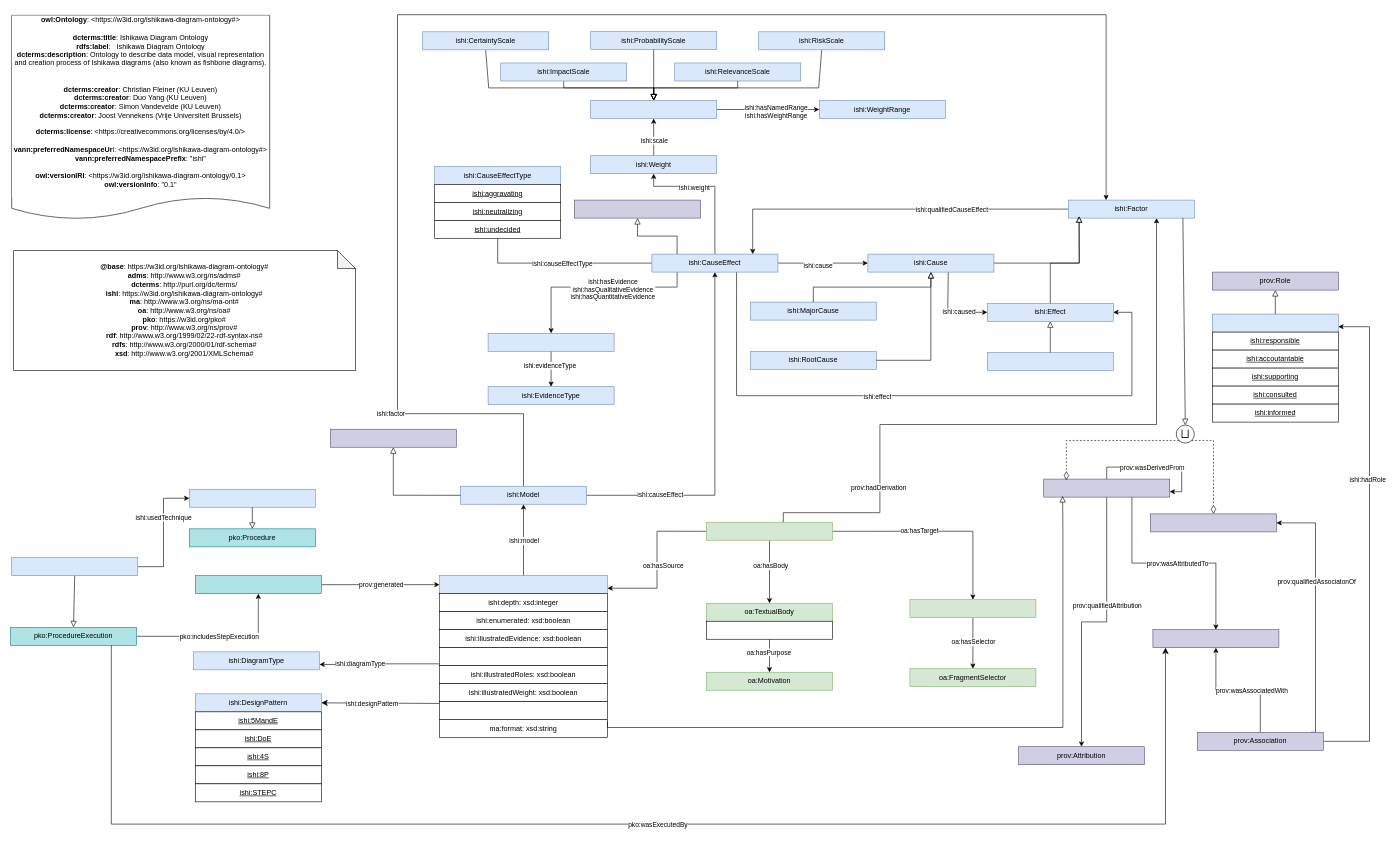
Image size: 1396x841. Some labels were removed from this diagram. Each missing label, with the box of its shape:
ishi:Diagram: (439, 575, 608, 594)
ishi:Evidence: (488, 333, 614, 351)
ishi:illustratedFactorEvidence: xsd:boolean: (439, 647, 608, 666)
ishi:Problem: (987, 352, 1113, 370)
ishi:Role: (1212, 314, 1338, 332)
ishi:Technique: (189, 489, 315, 507)
ishi:WeightScale: (590, 100, 717, 118)
ishi:Workshop: (11, 557, 138, 576)
ma:locator: xsd:anyURI: (439, 701, 608, 720)
oa:Annotation: (706, 522, 832, 540)
oa:SpecificResource: (909, 599, 1036, 618)
pko:StepExecution: (195, 575, 321, 594)
prov:Activity: (1150, 513, 1276, 532)
prov:Agent: (1152, 629, 1279, 648)
prov:Bundle: (330, 429, 456, 447)
prov:Entity: (1043, 478, 1170, 497)
prov:Influence: (574, 200, 700, 218)
rdf:value: xsd:string: (706, 621, 832, 639)
